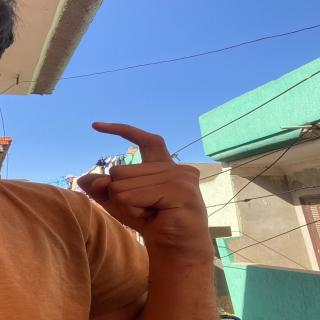RAA: (57, 116, 222, 242)
